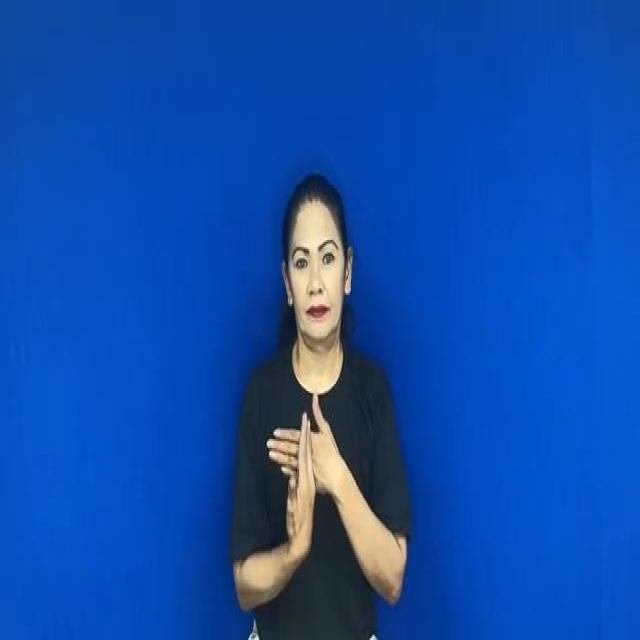bread: (272, 400, 348, 568)
